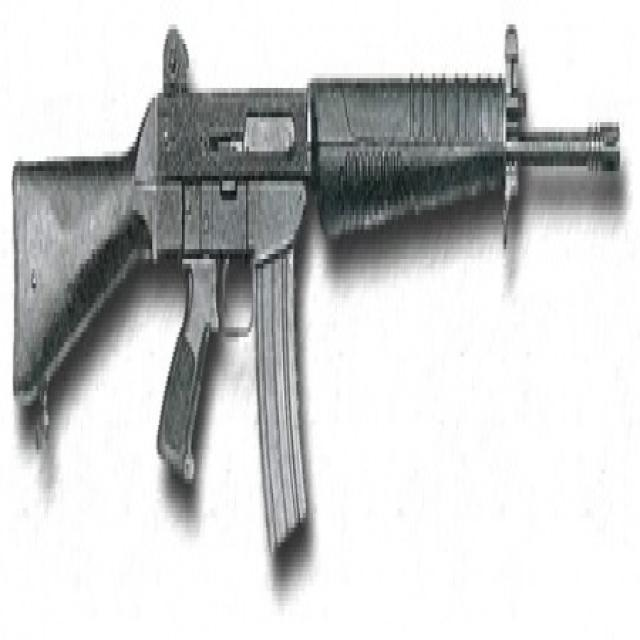rifle: (7, 1, 627, 607)
